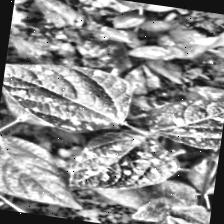Bean Rust: (0, 55, 134, 139), (69, 131, 182, 202), (143, 86, 224, 153)
